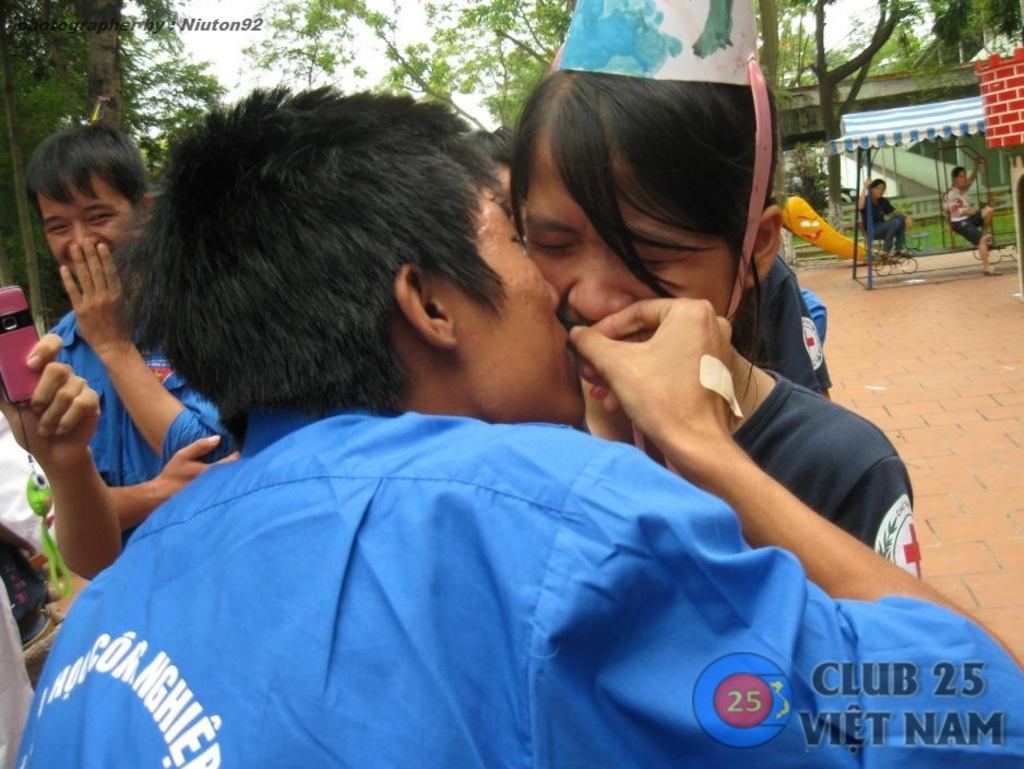Human_hand: (557, 291, 762, 459), (0, 332, 103, 470), (58, 236, 143, 352), (156, 434, 240, 502)
